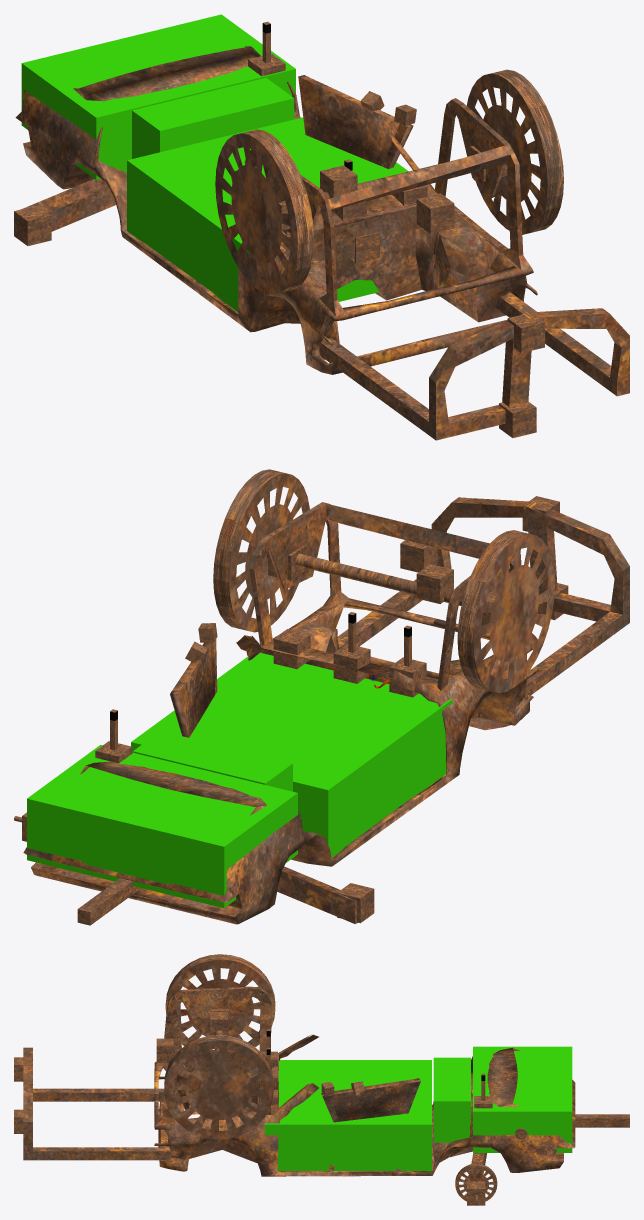
Rendered from sigma_test.glb.
The picture shows the model from 3 angles, top to bottom: view 1: azimuth 30°, elevation 25°; view 2: azimuth 150°, elevation 25°; view 3: azimuth 270°, elevation 25°; orthographic projection. The views are drawn at different scales.
Parts seen in each view (by area): view 1: Sigma Chassis, Physlock Volume, Physlock Volume.001, Wheel (Heavy Flywheel).001, Wheel (Heavy Flywheel), Physlock Volume.002, Radiator Mount, Rear Right Wheel Mount, Headlight Install Position, Steering Hinge, Engine Mount, Steering Mount; view 2: Sigma Chassis, Physlock Volume, Physlock Volume.001, Wheel (Heavy Flywheel).001, Wheel (Heavy Flywheel), Physlock Volume.002, Tow Hitch, Engine Mount, Gear Lever Mount, Clutch Mount, Radiator Mount, Throttle Mount (+1 smaller); view 3: Sigma Chassis, Physlock Volume, Wheel (Heavy Flywheel), Physlock Volume.001, Wheel (Heavy Flywheel).001, Physlock Volume.002, Wheel (Heavy Flywheel).002, Tow Hitch, Rear Left Wheel Mount, Radiator Mount, Engine Mount.
Part boxes in pixels (x1,y1,x2,y2): Sigma Chassis: [15, 46, 629, 440]; Physlock Volume: [127, 117, 408, 311]; Physlock Volume.001: [21, 14, 295, 179]; Wheel (Heavy Flywheel).001: [215, 129, 314, 294]; Wheel (Heavy Flywheel): [324, 69, 563, 234]; Physlock Volume.002: [132, 78, 294, 158]; Radiator Mount: [416, 193, 454, 233]; Rear Right Wheel Mount: [14, 205, 51, 245]; Headlight Install Position: [507, 312, 544, 352]; Steering Hinge: [499, 402, 536, 437]; Engine Mount: [320, 165, 357, 198]; Steering Mount: [354, 232, 379, 263]; Sigma Chassis: [23, 497, 629, 924]; Physlock Volume: [131, 652, 452, 857]; Physlock Volume.001: [27, 745, 297, 907]; Wheel (Heavy Flywheel).001: [457, 530, 554, 693]; Wheel (Heavy Flywheel): [213, 469, 461, 632]; Physlock Volume.002: [133, 731, 292, 791]; Tow Hitch: [77, 878, 141, 925]; Engine Mount: [416, 564, 453, 603]; Gear Lever Mount: [273, 629, 310, 669]; Clutch Mount: [333, 643, 370, 683]; Radiator Mount: [400, 540, 437, 572]; Throttle Mount: [389, 657, 426, 697]; Sigma Chassis: [23, 986, 575, 1176]; Physlock Volume: [265, 1060, 431, 1171]; Wheel (Heavy Flywheel): [164, 1030, 273, 1139]; Physlock Volume.001: [473, 1046, 572, 1152]; Wheel (Heavy Flywheel).001: [165, 954, 275, 1050]; Physlock Volume.002: [433, 1057, 470, 1142]; Wheel (Heavy Flywheel).002: [455, 1163, 497, 1202]; Tow Hitch: [575, 1114, 629, 1127]; Rear Left Wheel Mount: [467, 1181, 485, 1205]; Radiator Mount: [156, 1038, 174, 1062]; Engine Mount: [210, 1012, 228, 1035].
Size of what is drawn, in the model's own units: 2.76 by 1.82 by 6.21.
5 materials, 1 textured.
